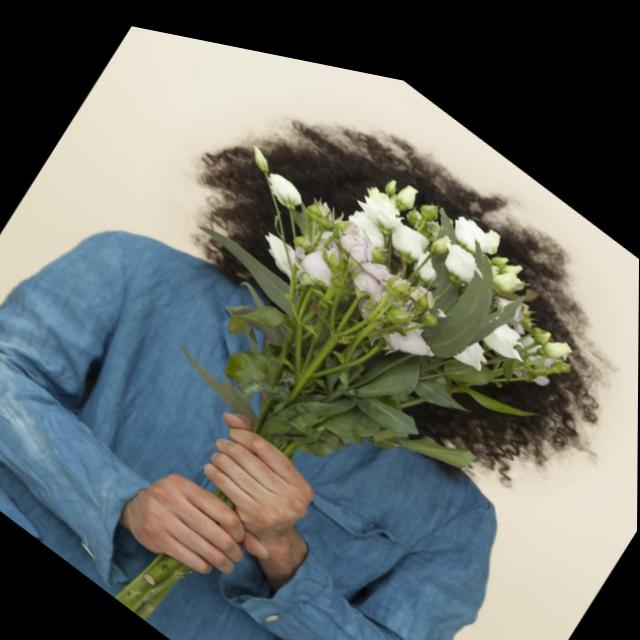Flower: (203, 59, 593, 476)
